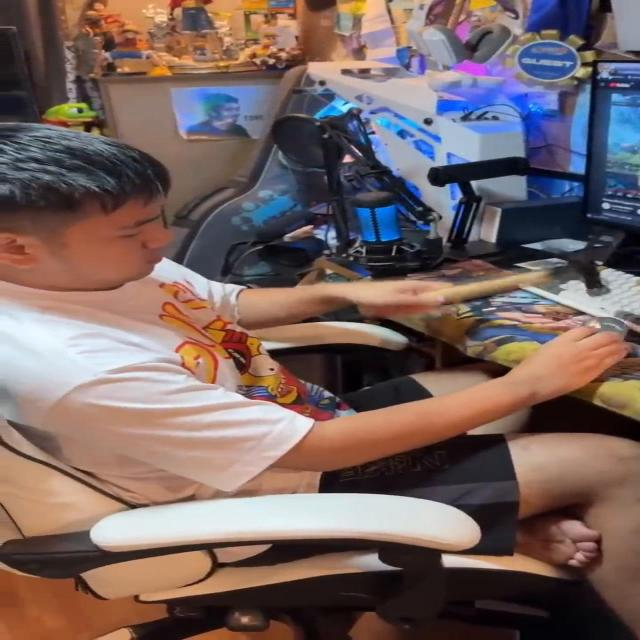hammer: (354, 249, 613, 317)
